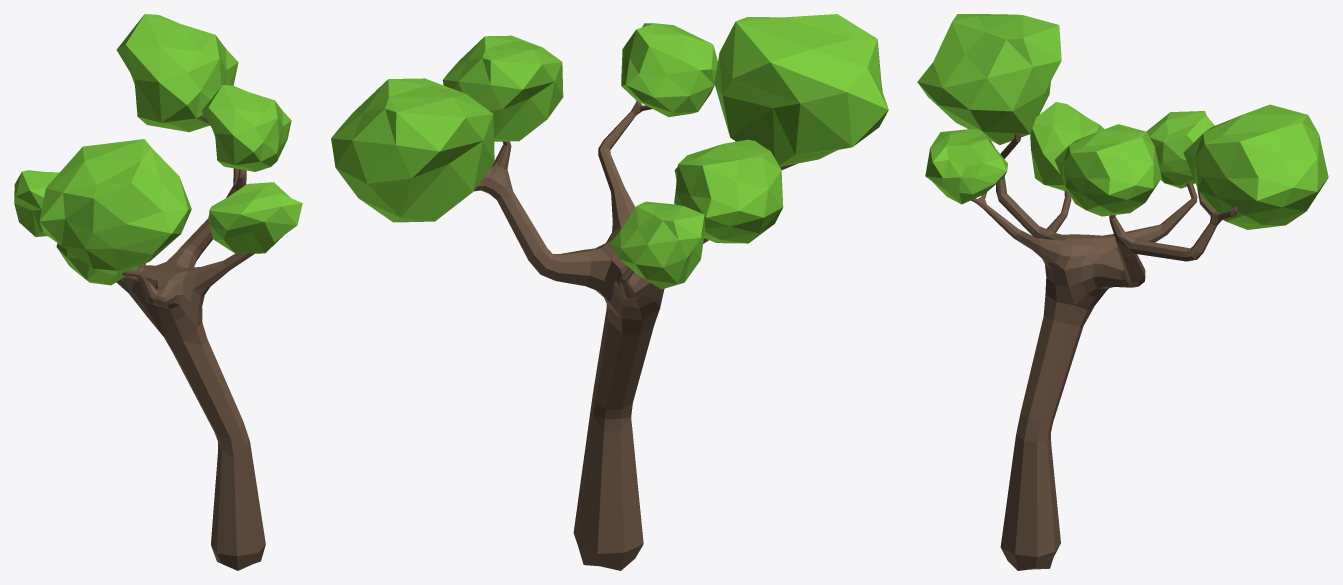
Rendered from Tree1.1.fbx.
3 renders of one model, left to right at view 1: azimuth 30°, elevation 25°; view 2: azimuth 150°, elevation 25°; view 3: azimuth 270°, elevation 25°, orthographic. The views are drawn at different scales.
Visible parts, largest first — view 1: Tree1.1; view 2: Tree1.1; view 3: Tree1.1.
Boxes of the visible parts, x1,y1,x2,y2 form: Tree1.1: (14, 14, 302, 570); Tree1.1: (331, 14, 888, 570); Tree1.1: (917, 14, 1328, 570).
Size of the model in its own units: 343 by 469 by 364.
